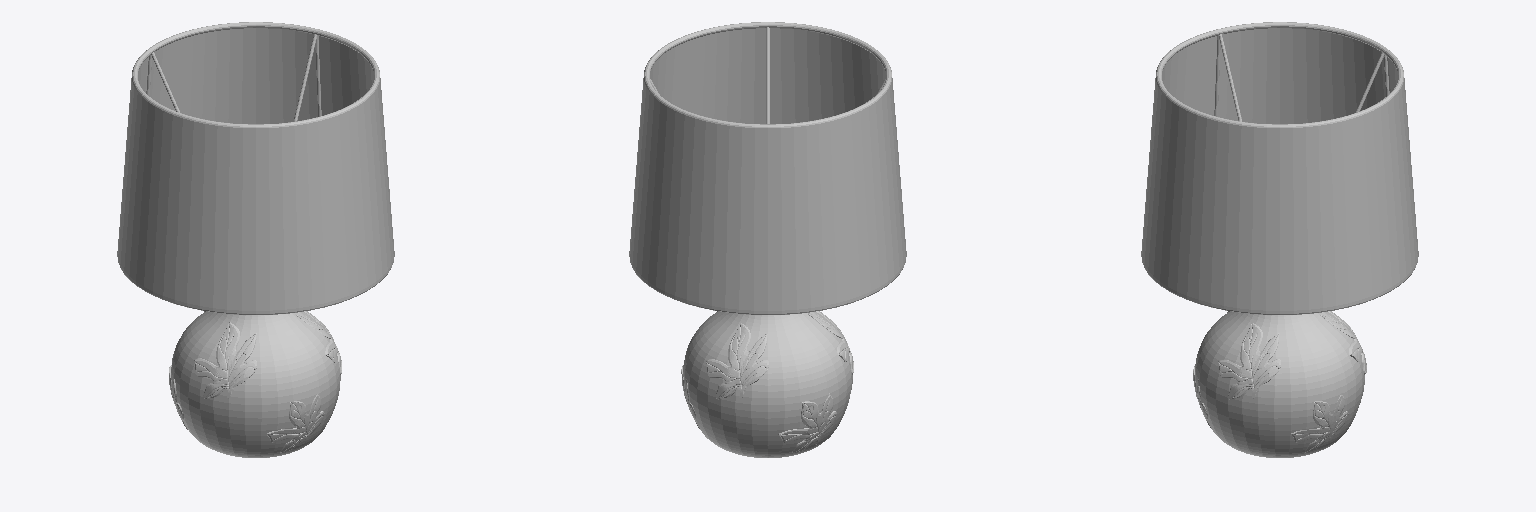
3 views of the same model, side by side, from view 1: azimuth 30°, elevation 25°; view 2: azimuth 150°, elevation 25°; view 3: azimuth 270°, elevation 25° (orthographic).
Visible parts, largest first — view 1: Line[number redacted], Line[number redacted]; view 2: Line[number redacted], Line[number redacted]; view 3: Line[number redacted], Line[number redacted].
Boxes of the visible parts, x1=… form: Line[number redacted]: x1=117, y1=22, x2=394, y2=314; Line[number redacted]: x1=169, y1=311, x2=341, y2=457; Line[number redacted]: x1=629, y1=22, x2=906, y2=314; Line[number redacted]: x1=681, y1=311, x2=853, y2=457; Line[number redacted]: x1=1141, y1=22, x2=1418, y2=314; Line[number redacted]: x1=1193, y1=311, x2=1366, y2=457.
Bounding box in the file's own units: 30.34 × 44.06 × 30.34.